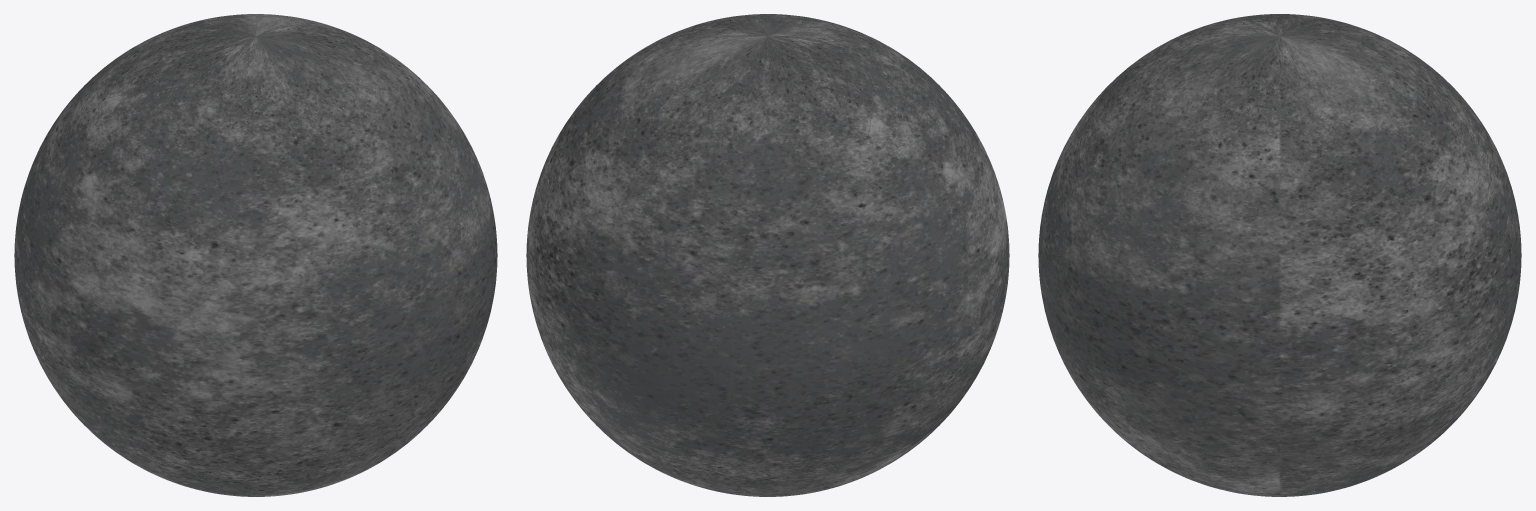
The model's file is fire-planet.glb.
The picture shows the model from 3 angles, left to right: view 1: azimuth 30°, elevation 25°; view 2: azimuth 150°, elevation 25°; view 3: azimuth 270°, elevation 25°; orthographic projection.
Visible parts, largest first — view 1: Sphere__0; view 2: Sphere__0; view 3: Sphere__0.
Boxes of the visible parts, bbox=[...] form: Sphere__0: bbox=[14, 14, 497, 496]; Sphere__0: bbox=[526, 14, 1009, 496]; Sphere__0: bbox=[1038, 14, 1521, 496].
Size of the model in its own units: 2 by 2 by 2.
Materials: 1 (1 with a texture image).
